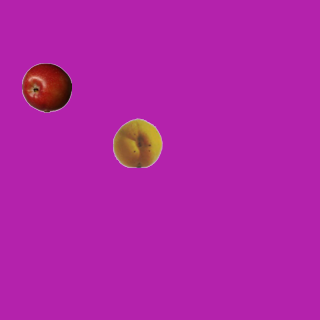Apple Braeburn: (21, 62, 71, 112)
Peach 2: (112, 117, 162, 167)
